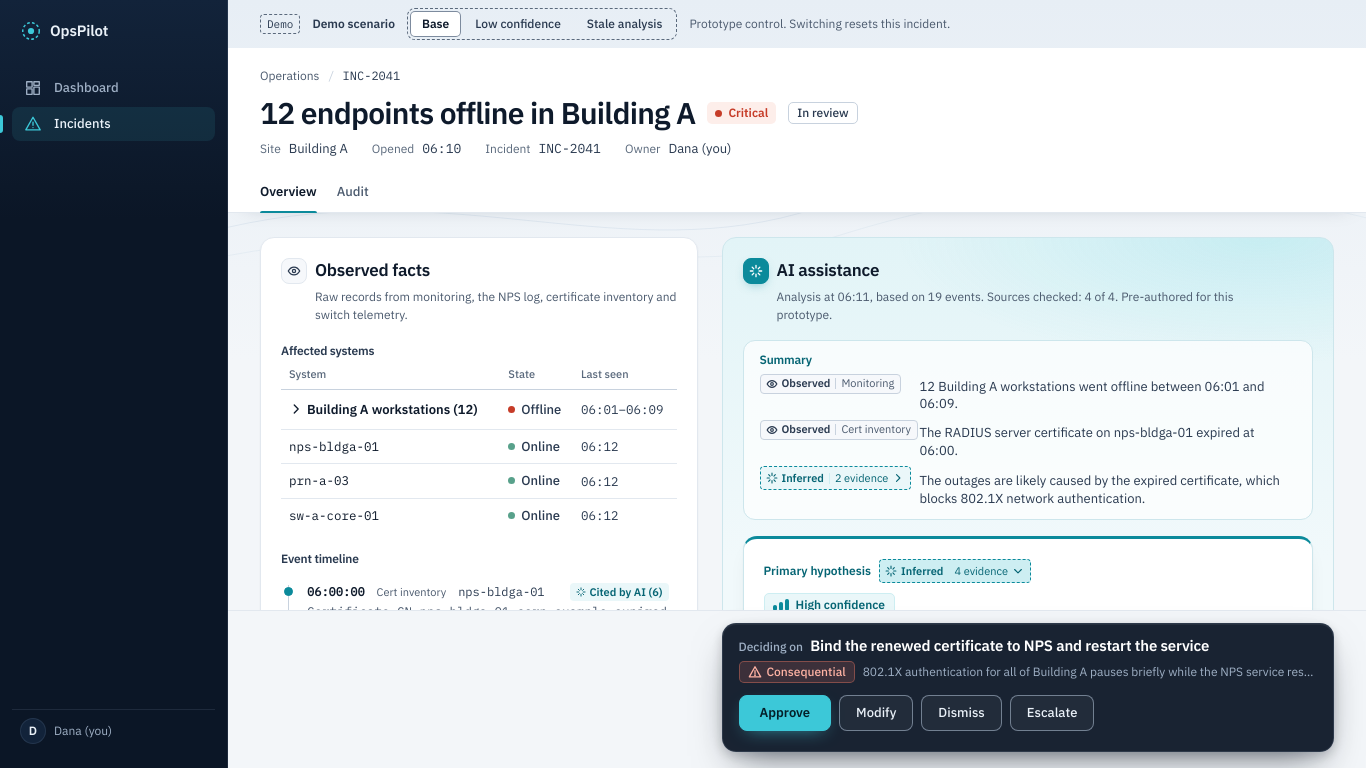
Test: Incident Detail: trace › the AI summary inferred tag expands its evidence (first step of the trace)
This screenshot has width=1366, height=768.
Click the button with aria-label "Inferred by AI, 2 evidence items" at (835, 478), box [760,466,911,490]
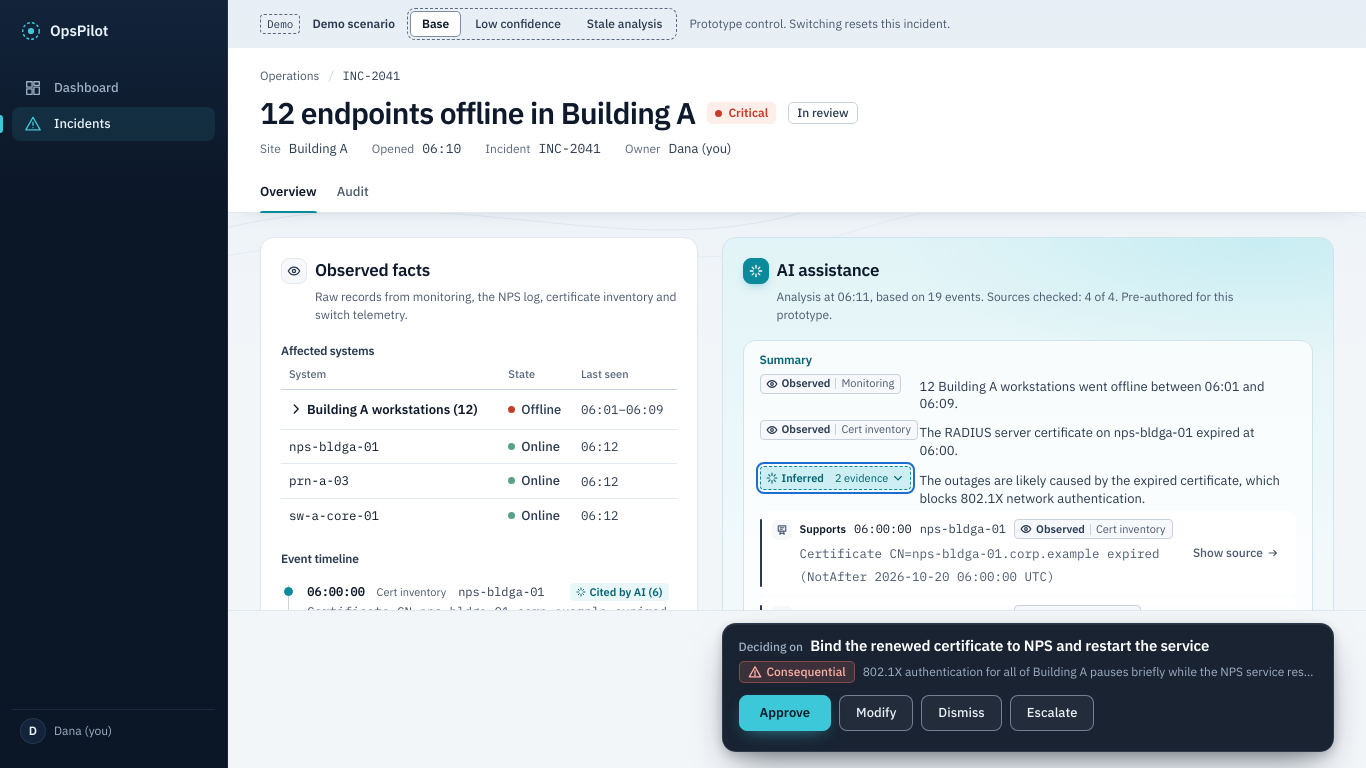
Now the button with aria-label "Inferred by AI, 2 evidence items" is expanded, box [760,466,911,490]
